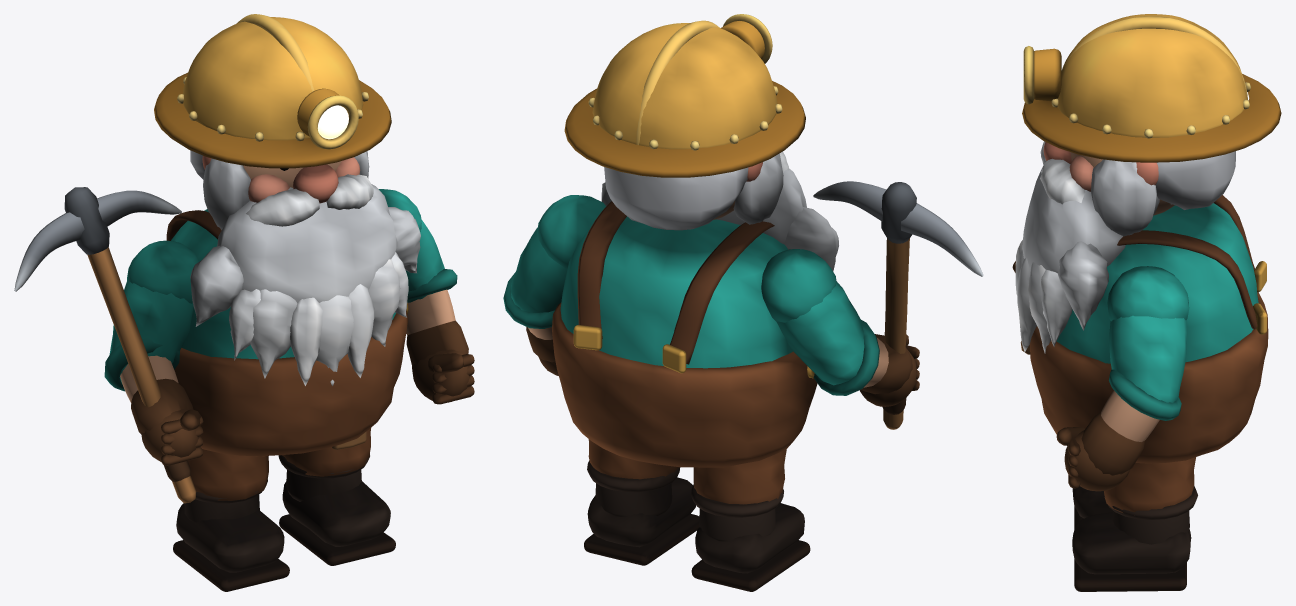
Rendered from miner-DoItAiy_.glb.
The picture shows the model from 3 angles, left to right: view 1: azimuth 30°, elevation 25°; view 2: azimuth 150°, elevation 25°; view 3: azimuth 270°, elevation 25°; orthographic projection.
Visible parts, largest first — view 1: head_hair, head_brass, torso_cloth, legs_leather, armR_cloth, pickaxe_iron, legs_cloth, armL_leather, armR_leather, pickaxe_wood, head_skin, armL_cloth (+3 smaller); view 2: torso_cloth, head_brass, legs_leather, head_hair, armR_cloth, armL_cloth, legs_cloth, pickaxe_iron, pickaxe_wood, armR_leather, torso_brass, armL_leather; view 3: torso_cloth, head_brass, head_hair, armL_cloth, legs_leather, armL_leather, legs_cloth, head_skin, armL_skin, torso_brass.
Boxes of the visible parts, <box> form: head_hair: <box>190,150,420,385</box>; head_brass: <box>154,14,391,168</box>; torso_cloth: <box>166,209,408,456</box>; legs_leather: <box>173,454,395,591</box>; armR_cloth: <box>104,240,198,391</box>; pickaxe_iron: <box>14,187,181,291</box>; legs_cloth: <box>188,428,370,500</box>; armL_leather: <box>406,320,474,404</box>; armR_leather: <box>131,378,203,465</box>; pickaxe_wood: <box>87,247,196,503</box>; head_skin: <box>202,155,360,203</box>; armL_cloth: <box>379,189,457,302</box>; torso_cloth: <box>552,201,817,467</box>; head_brass: <box>564,14,805,177</box>; legs_leather: <box>584,460,810,591</box>; head_hair: <box>601,151,838,271</box>; armR_cloth: <box>761,249,879,395</box>; armL_cloth: <box>503,195,605,328</box>; legs_cloth: <box>588,439,786,504</box>; pickaxe_iron: <box>813,181,983,276</box>; pickaxe_wood: <box>883,238,909,429</box>; armR_leather: <box>859,334,919,406</box>; torso_brass: <box>573,325,814,378</box>; armL_leather: <box>526,327,558,375</box>; torso_cloth: <box>1029,195,1268,463</box>; head_brass: <box>1022,14,1281,162</box>; head_hair: <box>1015,141,1235,353</box>; armL_cloth: <box>1107,266,1189,420</box>; legs_leather: <box>1072,485,1197,591</box>; armL_leather: <box>1056,412,1144,491</box>; legs_cloth: <box>1104,457,1195,515</box>; head_skin: <box>1043,142,1174,215</box>; armL_skin: <box>1101,390,1159,441</box>; torso_brass: <box>1253,261,1266,334</box>.
Size of the model in its own units: 0.9065 by 1 by 0.4576.
